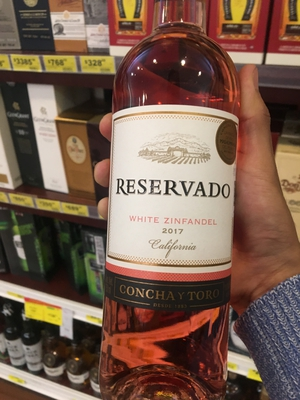reservado white zinfandel: (106, 3, 238, 400)
